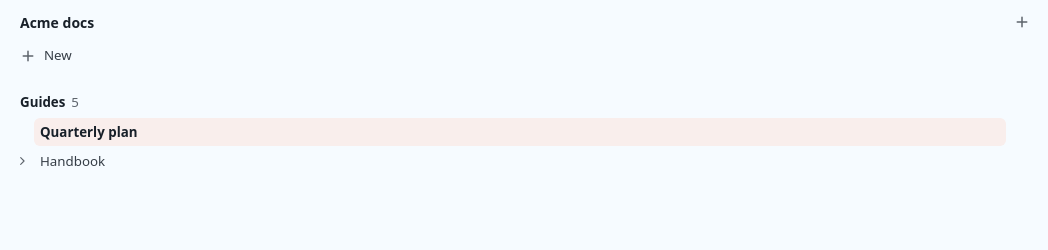
Test: WorkspaceTree loading a slice at a time › asks for the tree opened down to the open document, and for children as they are opened
The width and height of the screenshot is (1048, 250).
Click the button named "Expand Handbook": (22, 161) [12,151,32,171]
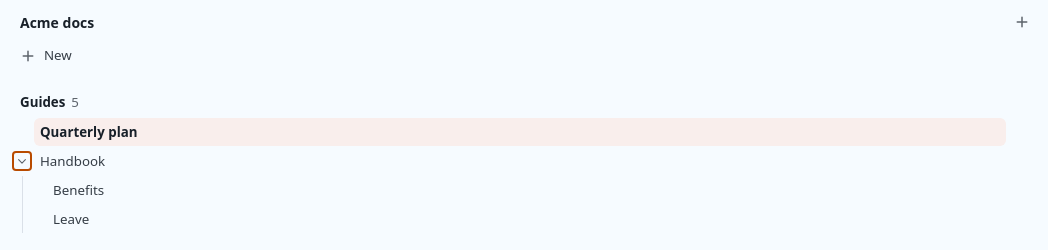
Now the link "Leave" is shown, box [53,210,89,228]
